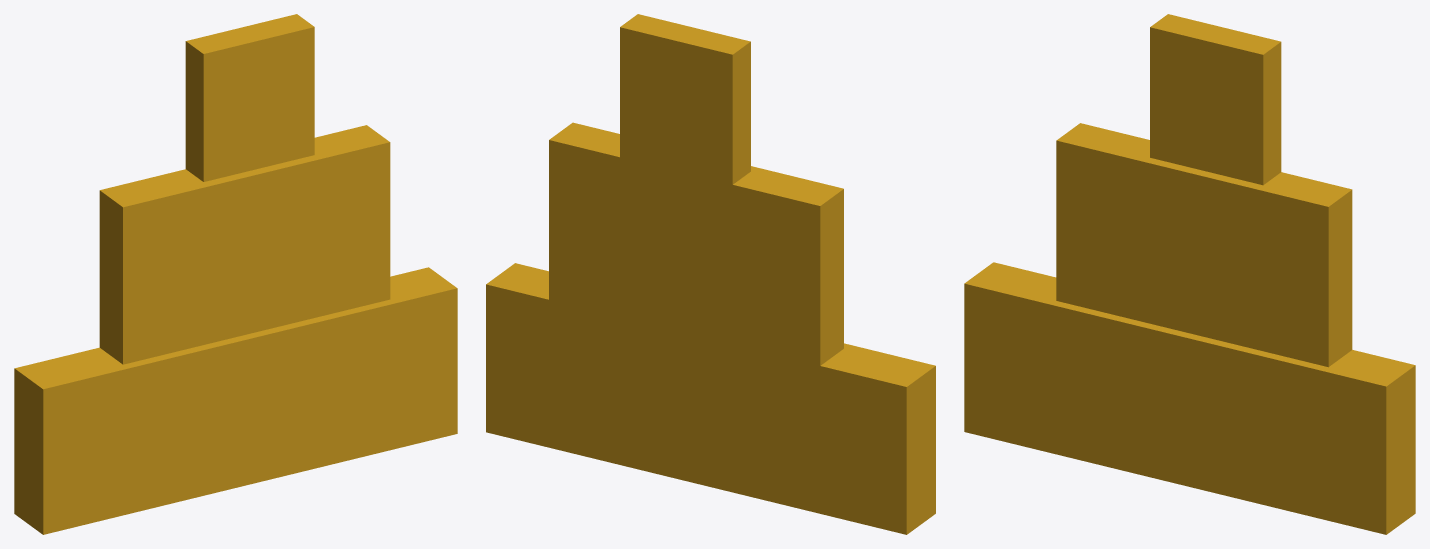
Rendered from Prop_Jungle_Temple_Ornament_Icon_Plaque_Small_Gold_02.FBX.
3 renders of one model, left to right at view 1: azimuth 30°, elevation 25°; view 2: azimuth 150°, elevation 25°; view 3: azimuth 330°, elevation 25°, orthographic.
Parts seen in each view (by area): view 1: Prop_Jungle_Temple_Ornament_Icon_Plaque_Small_Gold_02; view 2: Prop_Jungle_Temple_Ornament_Icon_Plaque_Small_Gold_02; view 3: Prop_Jungle_Temple_Ornament_Icon_Plaque_Small_Gold_02.
Part boxes in pixels (bbox=[...]): Prop_Jungle_Temple_Ornament_Icon_Plaque_Small_Gold_02: bbox=[14, 14, 457, 534]; Prop_Jungle_Temple_Ornament_Icon_Plaque_Small_Gold_02: bbox=[486, 14, 935, 534]; Prop_Jungle_Temple_Ornament_Icon_Plaque_Small_Gold_02: bbox=[964, 14, 1415, 534].
Bounding box in the file's own units: 370 × 368 × 44.43.
